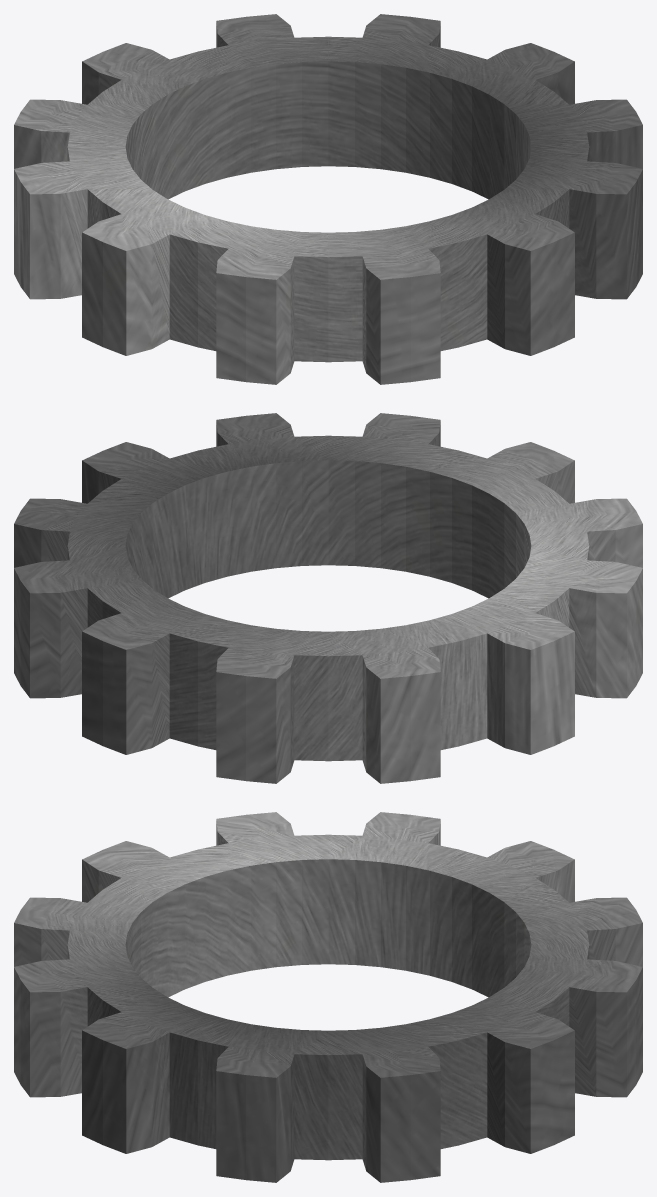
The model's file is gear.fbx.
The picture shows the model from 3 angles, top to bottom: view 1: azimuth 30°, elevation 25°; view 2: azimuth 150°, elevation 25°; view 3: azimuth 270°, elevation 25°; orthographic projection.
Visible parts, largest first — view 1: gear; view 2: gear; view 3: gear.
Part boxes in pixels (x1=…): gear: x1=14, y1=14, x2=642, y2=384; gear: x1=14, y1=413, x2=642, y2=783; gear: x1=14, y1=812, x2=642, y2=1182.
Size of the model in its own units: 1.09 by 0.2 by 1.09.
Materials: 1 (1 with a texture image).
